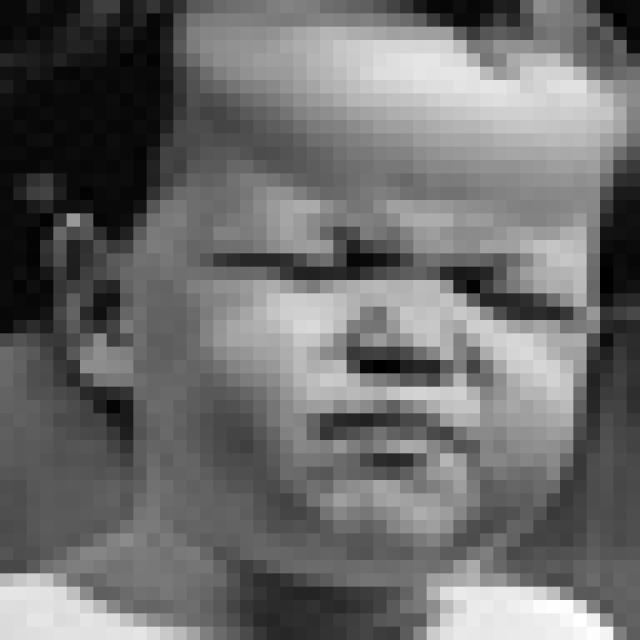disgust: (185, 178, 582, 524)
